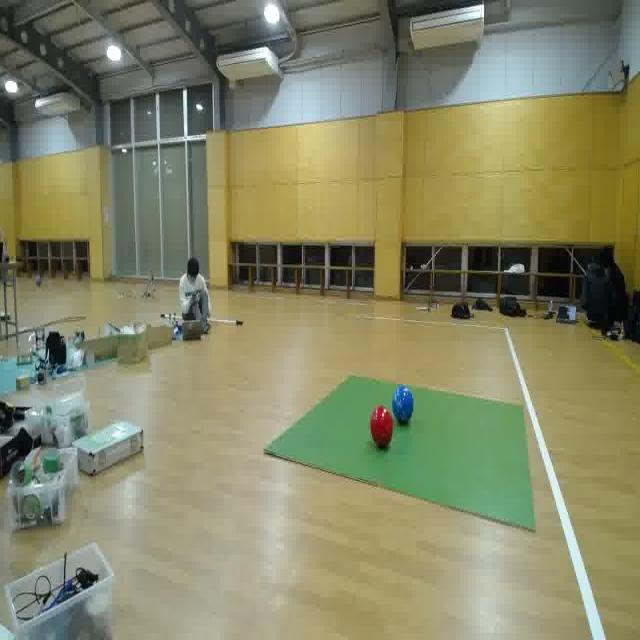blue_ball: (391, 382, 415, 427)
red_ball: (370, 405, 394, 449)
